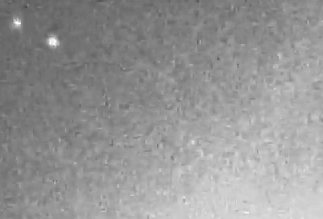Target: (14, 19, 59, 46)
